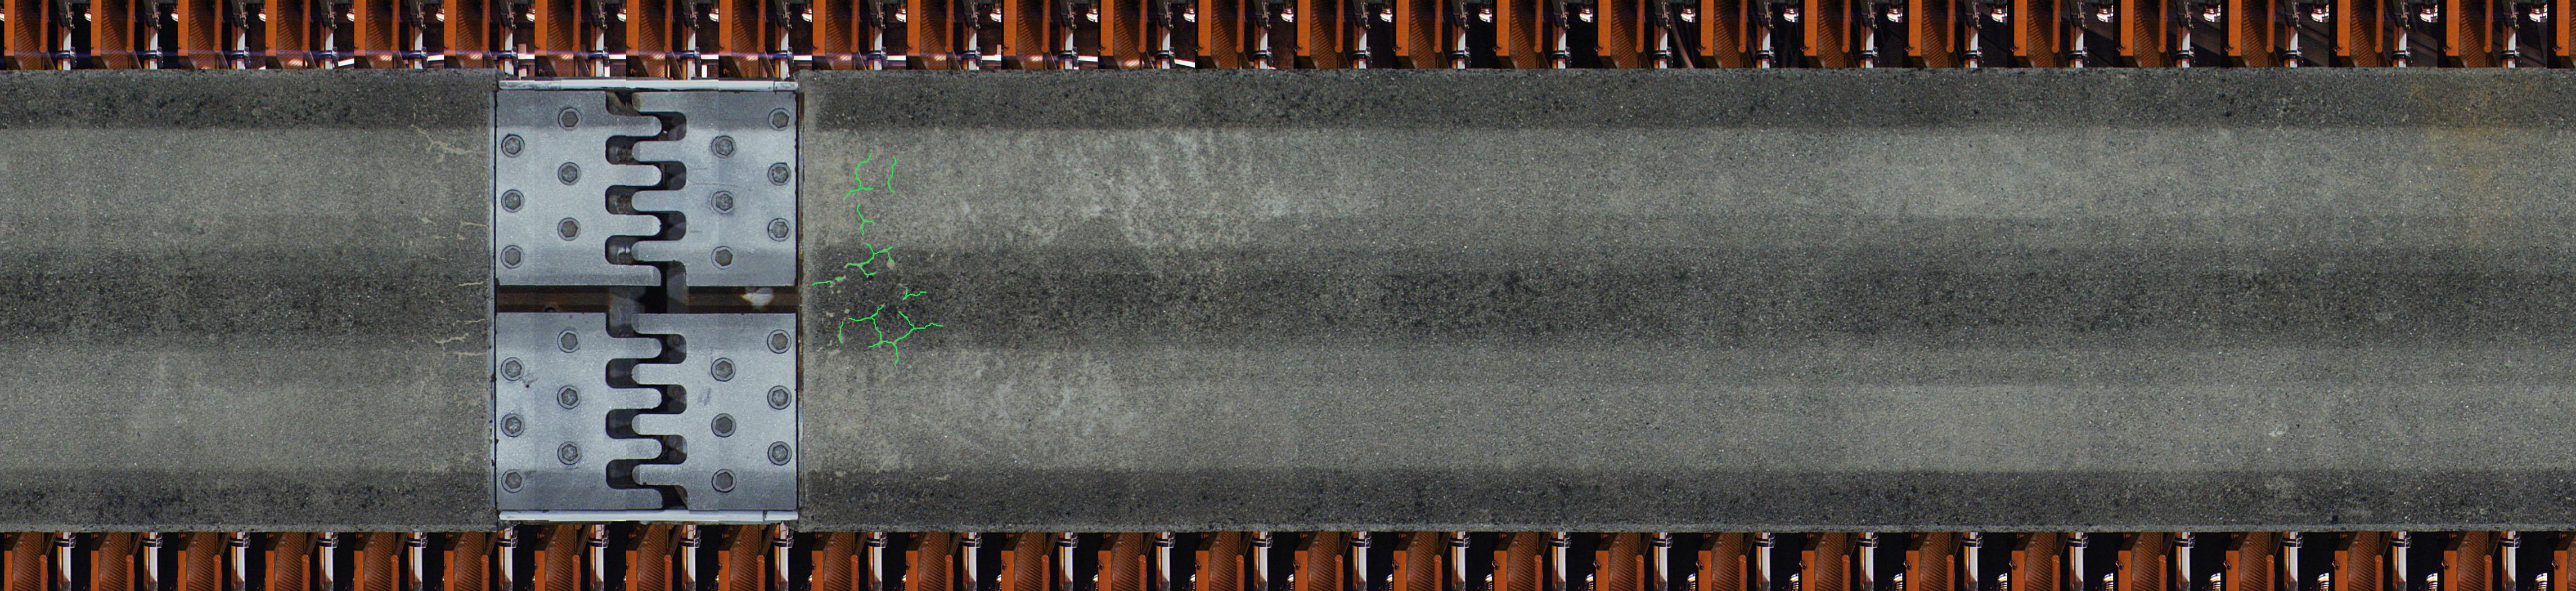concrete: (800, 72, 2569, 530), (0, 71, 491, 534)
